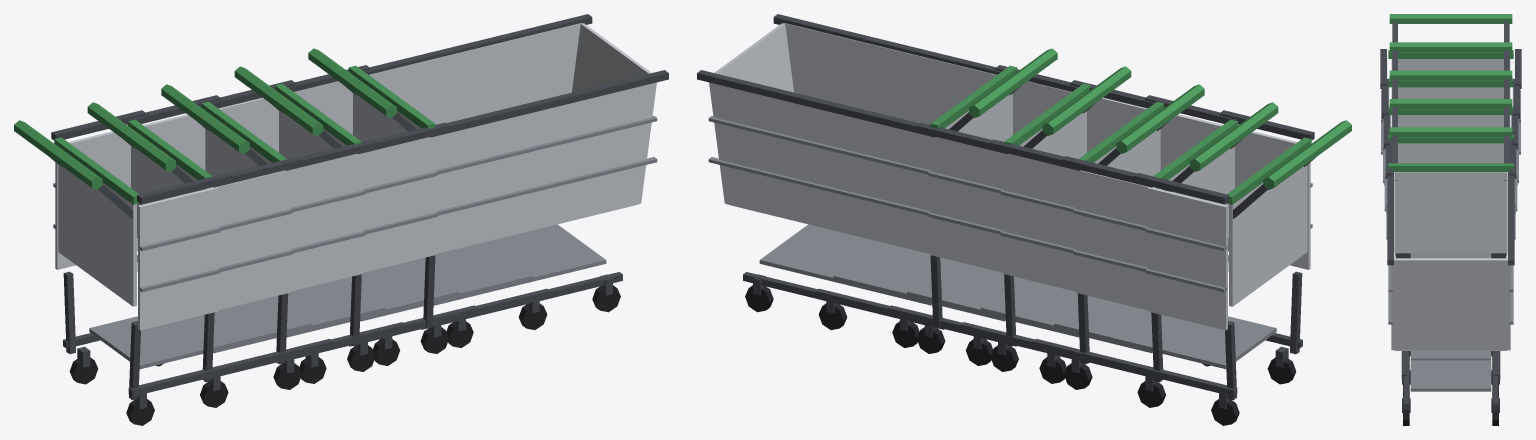
The model's file is Cart_Nested_Row_Market.glb.
The picture shows the model from 3 angles, left to right: view 1: azimuth 30°, elevation 25°; view 2: azimuth 150°, elevation 25°; view 3: azimuth 270°, elevation 25°; orthographic projection. The views are drawn at different scales.
Visible parts, largest first — view 1: Cart_Nested_Row_Market; view 2: Cart_Nested_Row_Market; view 3: Cart_Nested_Row_Market.
Part boxes in pixels (<box>): Cart_Nested_Row_Market: <box>14,14,668,425</box>; Cart_Nested_Row_Market: <box>697,14,1351,425</box>; Cart_Nested_Row_Market: <box>1380,14,1521,425</box>.
Size of the model in its own units: 2.35 by 1.04 by 0.634.
Materials: 1 (1 with a texture image).
